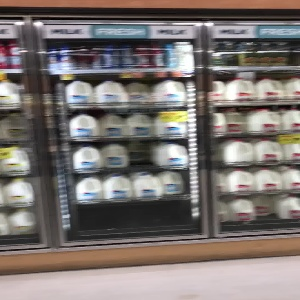void: (80, 205, 193, 224), (123, 141, 155, 170)
